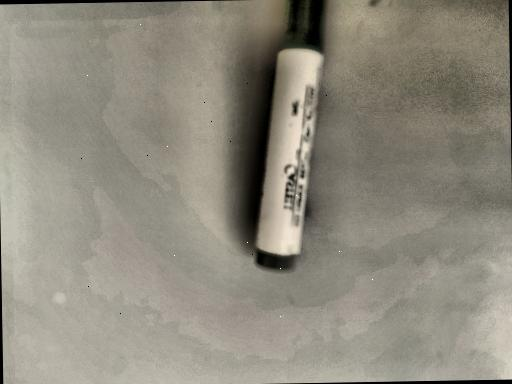marcador negro: (254, 0, 327, 270)
